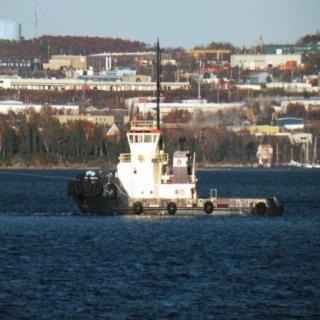Tug Boat: (69, 122, 278, 216)
